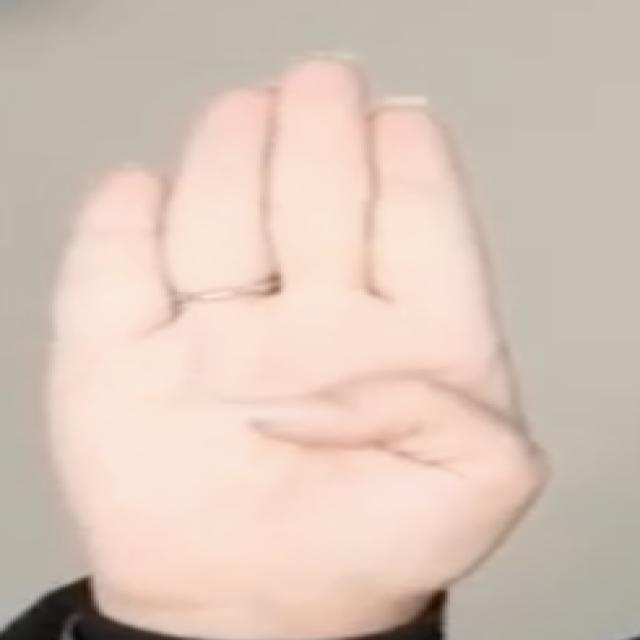B: (37, 46, 560, 613)
